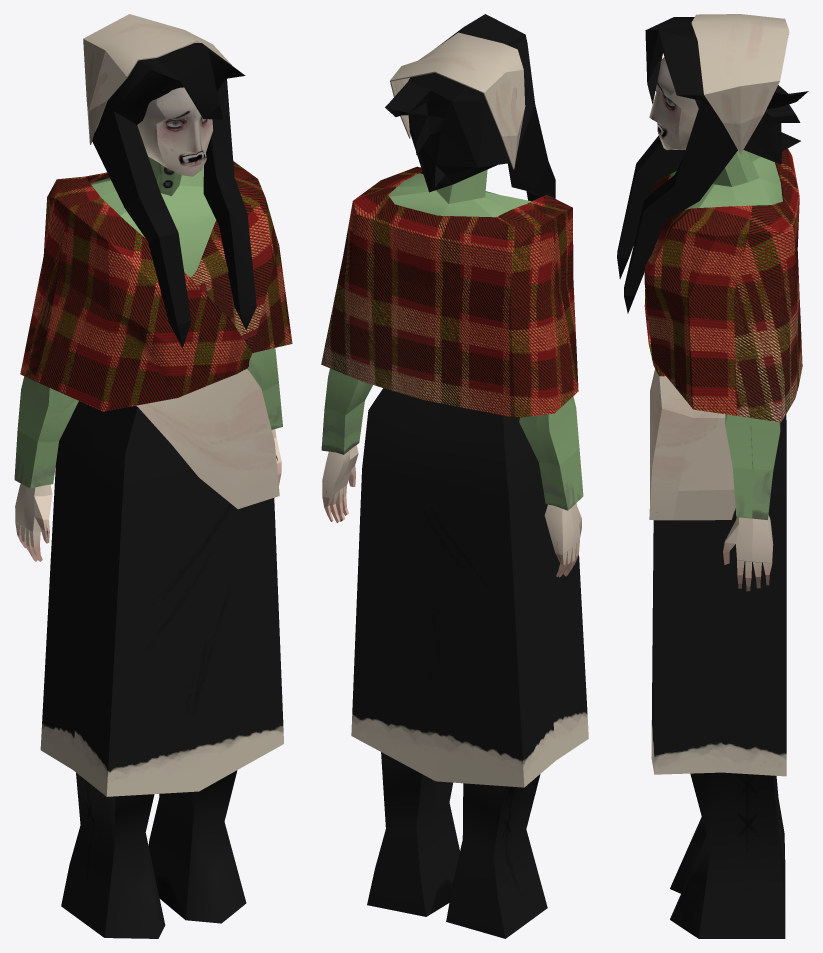
The model's file is PlayerModel.fbx.
3 views of the same model, side by side, from view 1: azimuth 30°, elevation 25°; view 2: azimuth 150°, elevation 25°; view 3: azimuth 270°, elevation 25° (orthographic). The views are drawn at different scales.
Visible parts, largest first — view 1: PlayerNew, Cloth, Hair, Apron, HairTie; view 2: PlayerNew, Cloth, Hair, HairTie; view 3: PlayerNew, Cloth, Hair, Apron, HairTie.
Boxes of the visible parts, x1=… form: PlayerNew: x1=14, y1=87, x2=283, y2=938; Cloth: x1=20, y1=161, x2=292, y2=411; Hair: x1=92, y1=43, x2=256, y2=347; Apron: x1=136, y1=368, x2=279, y2=509; HairTie: x1=83, y1=14, x2=231, y2=144; PlayerNew: x1=321, y1=169, x2=588, y2=938; Cloth: x1=321, y1=166, x2=578, y2=418; Hair: x1=385, y1=14, x2=555, y2=201; HairTie: x1=390, y1=32, x2=525, y2=169; PlayerNew: x1=649, y1=57, x2=786, y2=938; Cloth: x1=644, y1=148, x2=802, y2=422; Hair: x1=617, y1=17, x2=808, y2=313; Apron: x1=649, y1=369, x2=735, y2=520; HairTie: x1=691, y1=14, x2=789, y2=154.
Bounding box in the file's own units: 460 × 1535 × 303.
Materials: 2 (2 with a texture image).
